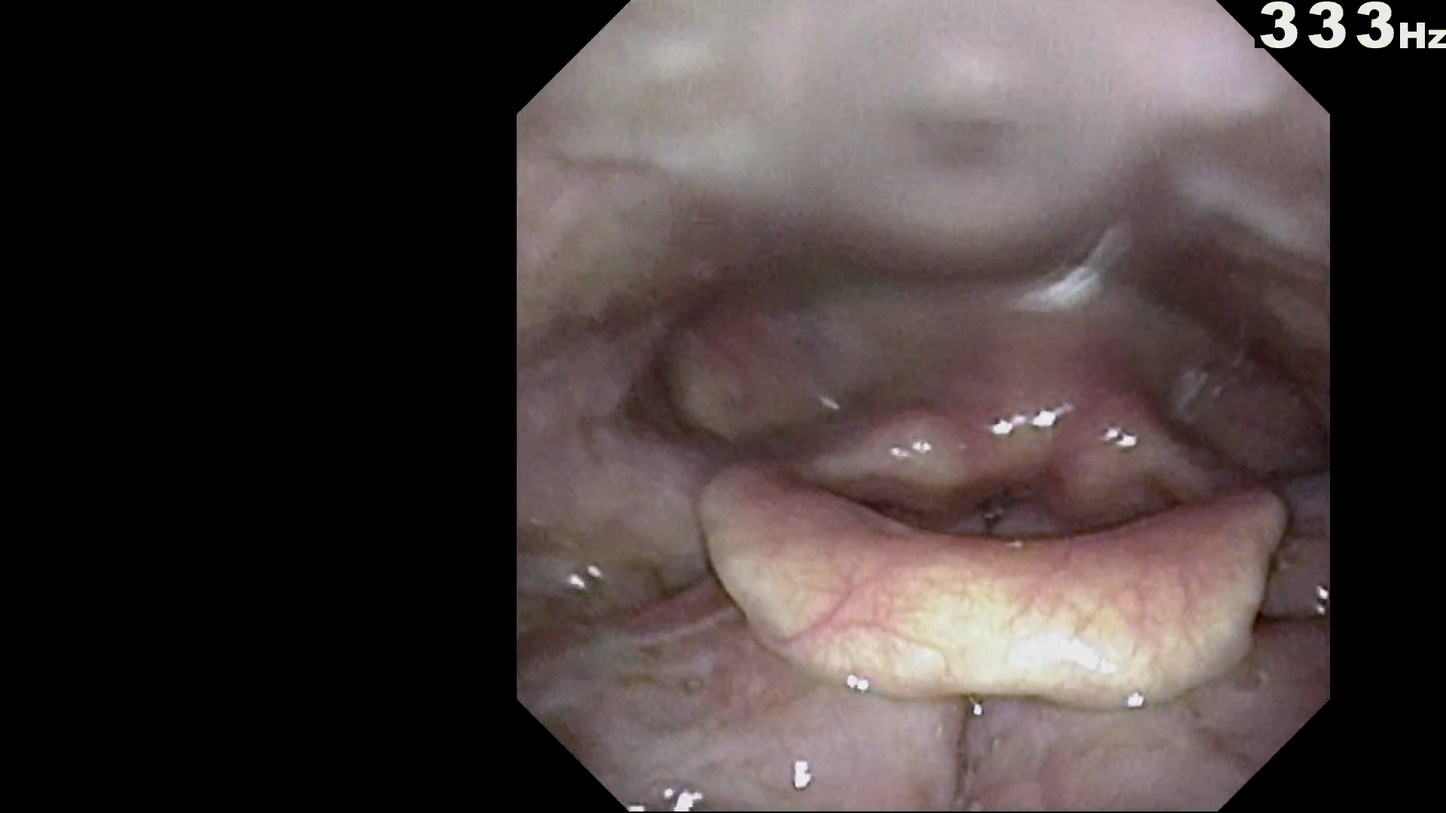epiglottis: (684, 481, 1293, 706)
trachea: (970, 487, 1033, 548)
